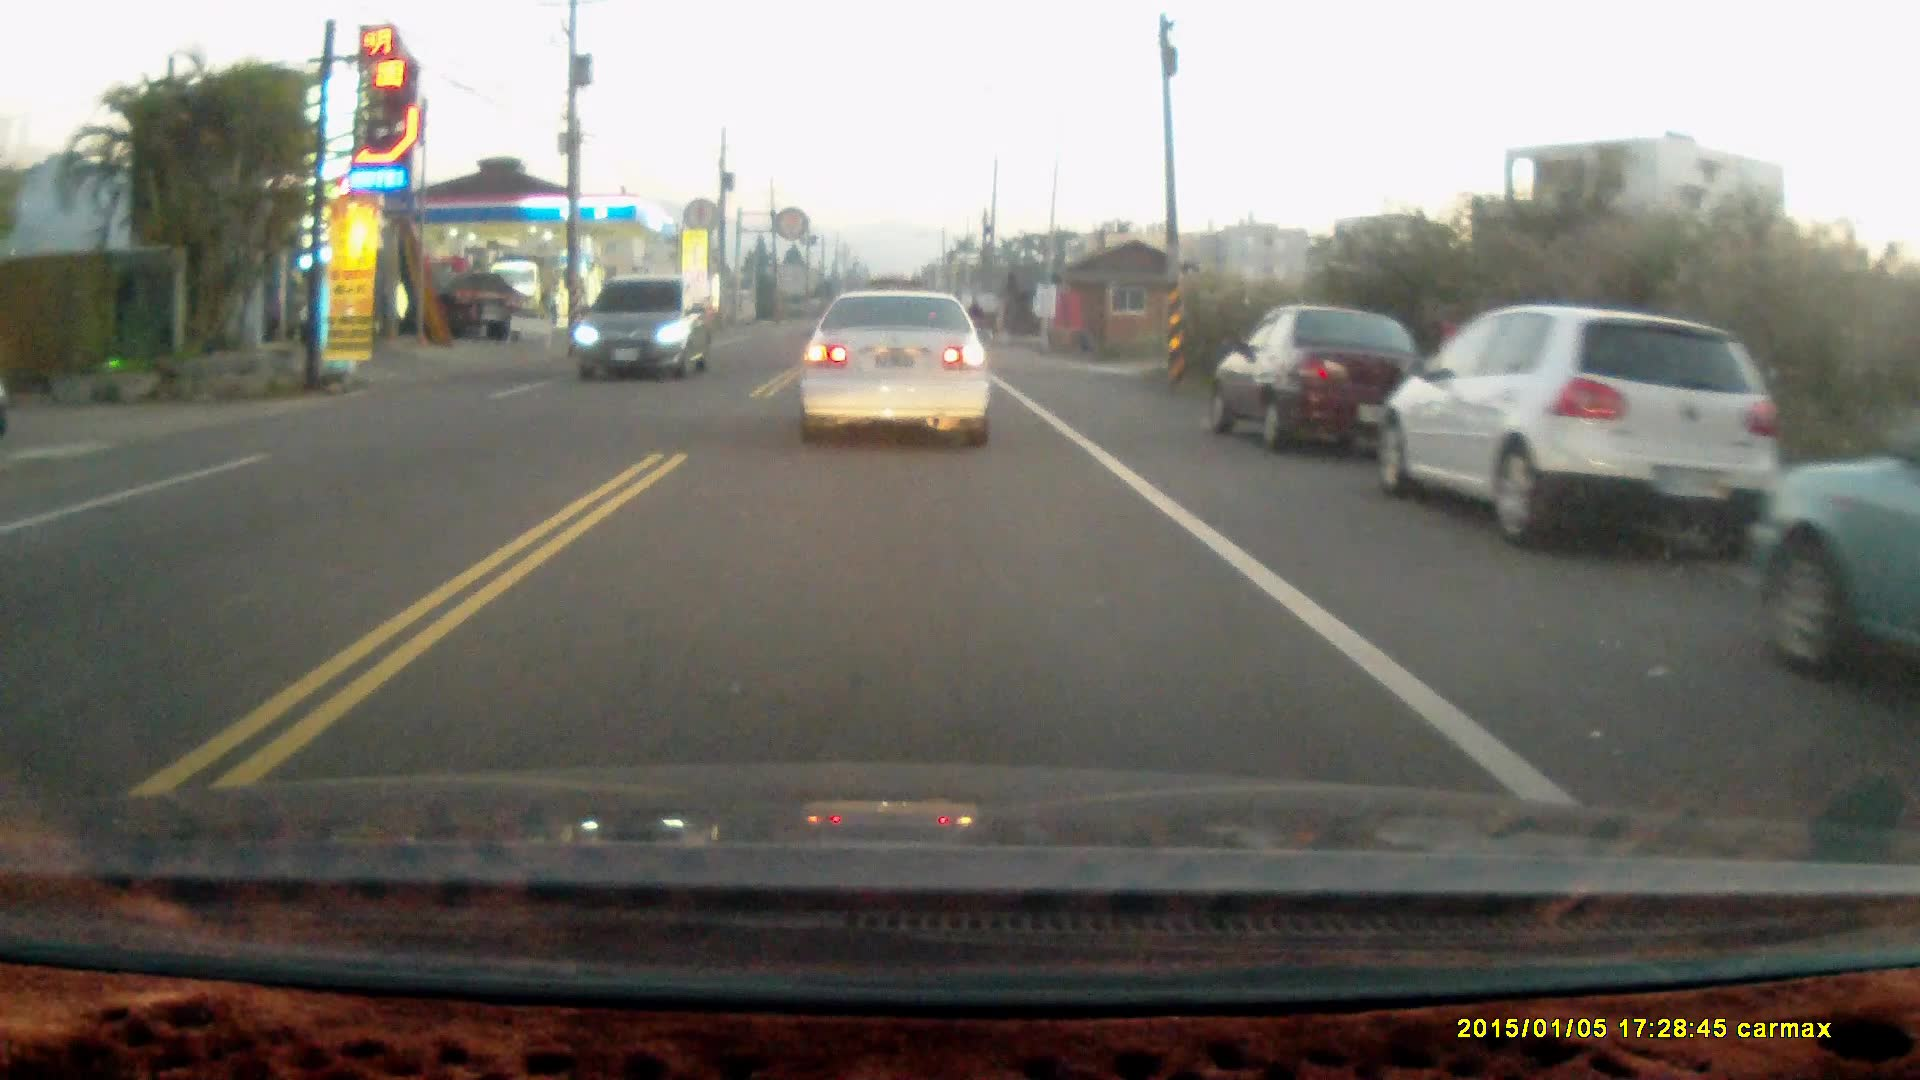vehicle: (1385, 299, 1799, 541), (1749, 419, 1920, 694), (1212, 301, 1443, 444), (796, 280, 996, 446), (575, 273, 715, 377)
